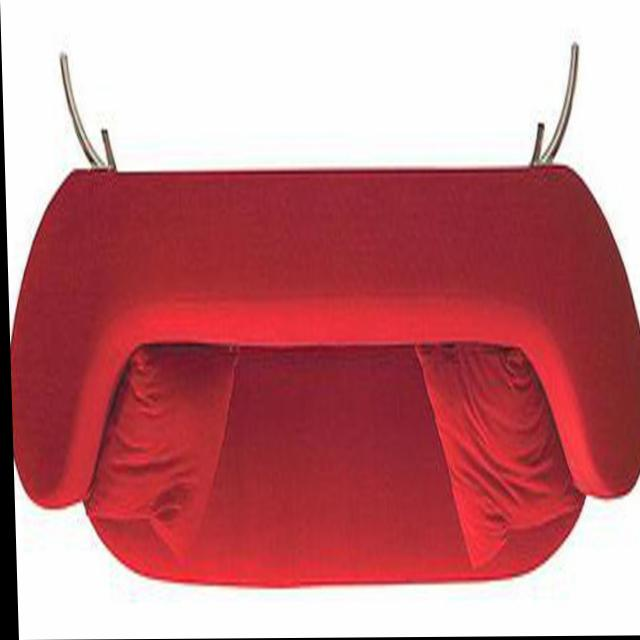Sofa: (1, 43, 640, 590)
